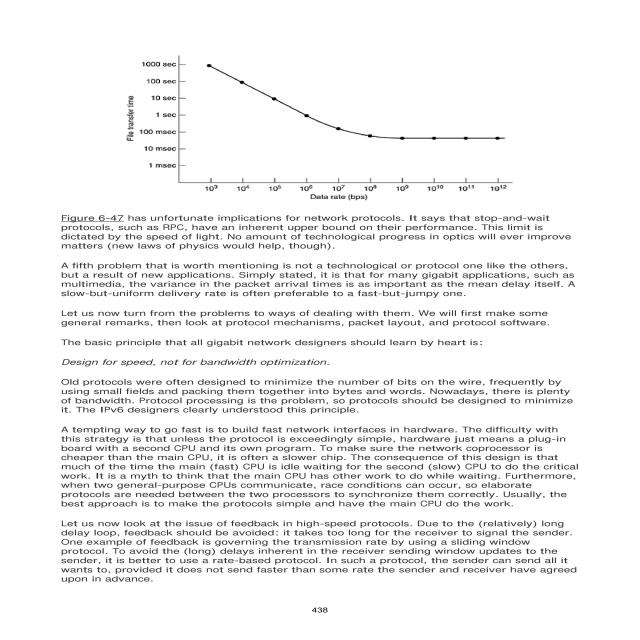diagram: (96, 26, 598, 214)
